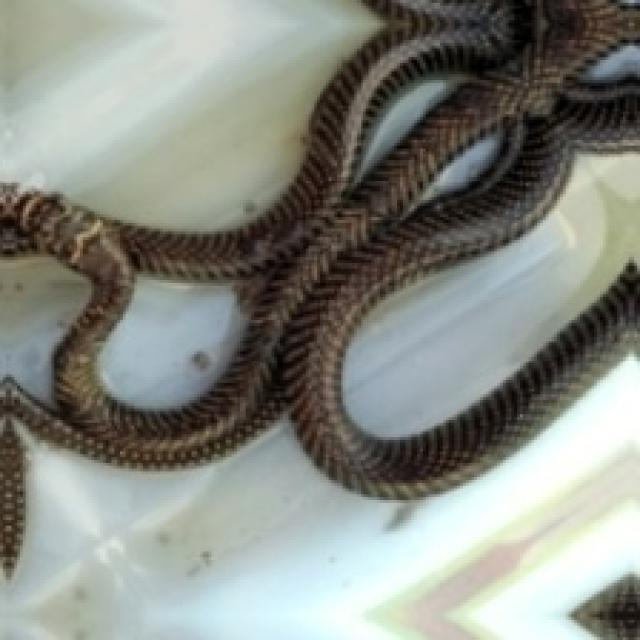paradise tree snake: (0, 0, 637, 637), (471, 497, 637, 637), (91, 269, 246, 411)
